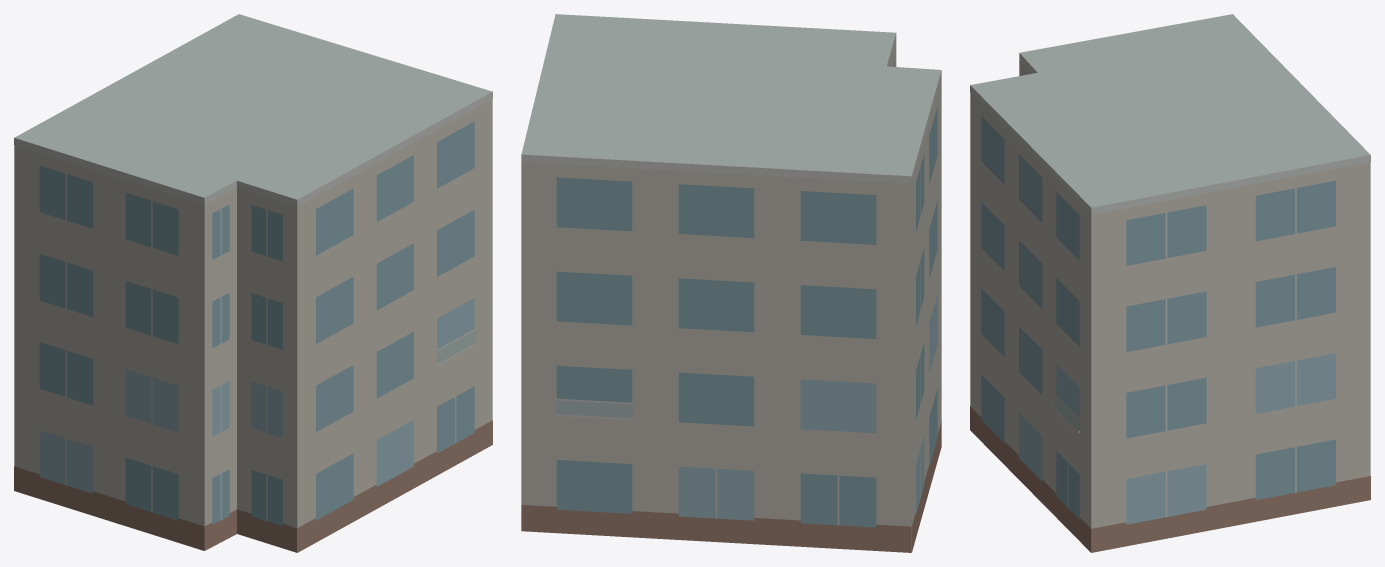
The model's file is survey-upis-32848348.glb.
3 views of the same model, side by side, from view 1: azimuth 30°, elevation 25°; view 2: azimuth 150°, elevation 25°; view 3: azimuth 270°, elevation 25° (orthographic). The views are drawn at different scales.
Parts seen in each view (by area): view 1: survey-upis-32848348.tmp; view 2: survey-upis-32848348.tmp; view 3: survey-upis-32848348.tmp.
Part boxes in pixels (x1,y1,x2,y2): survey-upis-32848348.tmp: (14, 14, 492, 552); survey-upis-32848348.tmp: (521, 14, 941, 552); survey-upis-32848348.tmp: (970, 14, 1370, 552).
Size of the model in its own units: 14.28 by 11.85 by 12.48.
